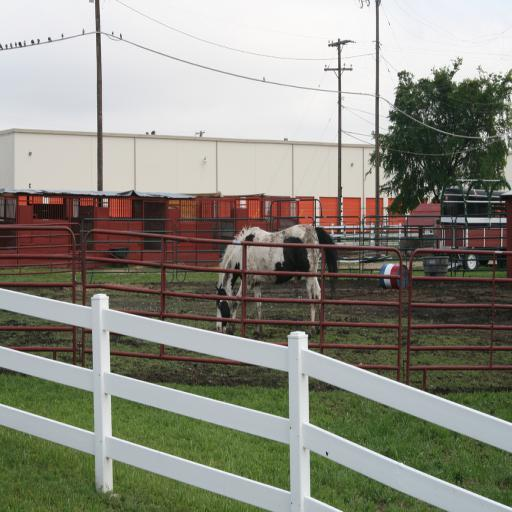horse: (215, 222, 341, 335)
